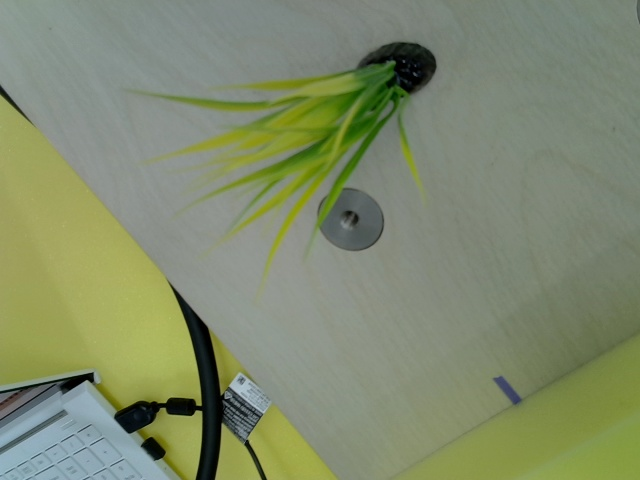해바라기새싹: (130, 42, 445, 296)
